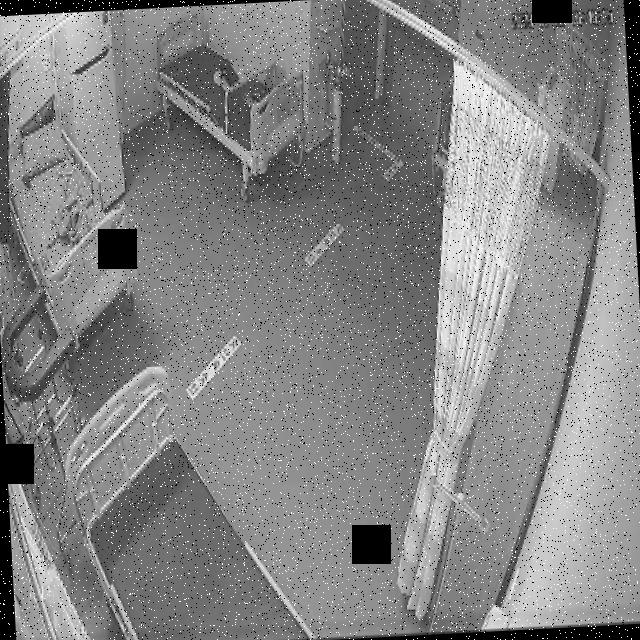bed: (56, 356, 311, 640), (2, 111, 140, 342), (155, 9, 309, 179)
walker: (0, 280, 86, 509)
